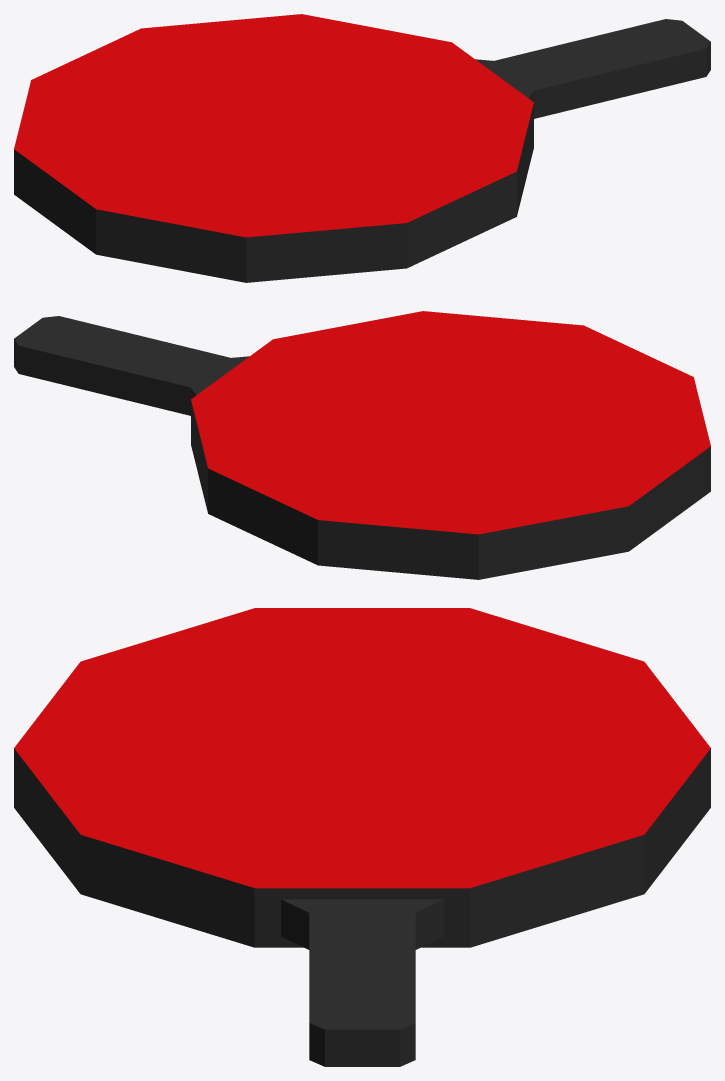
File: Paleta.fbx
The picture shows the model from 3 angles, top to bottom: view 1: azimuth 30°, elevation 25°; view 2: azimuth 150°, elevation 25°; view 3: azimuth 270°, elevation 25°; orthographic projection. The views are drawn at different scales.
Parts seen in each view (by area): view 1: Cylinder; view 2: Cylinder; view 3: Cylinder.
Part boxes in pixels (<box>): Cylinder: <box>14,14,710,282</box>; Cylinder: <box>14,311,710,579</box>; Cylinder: <box>14,608,710,1066</box>.
Bounding box in the file's own units: 279 × 18.86 × 200.
